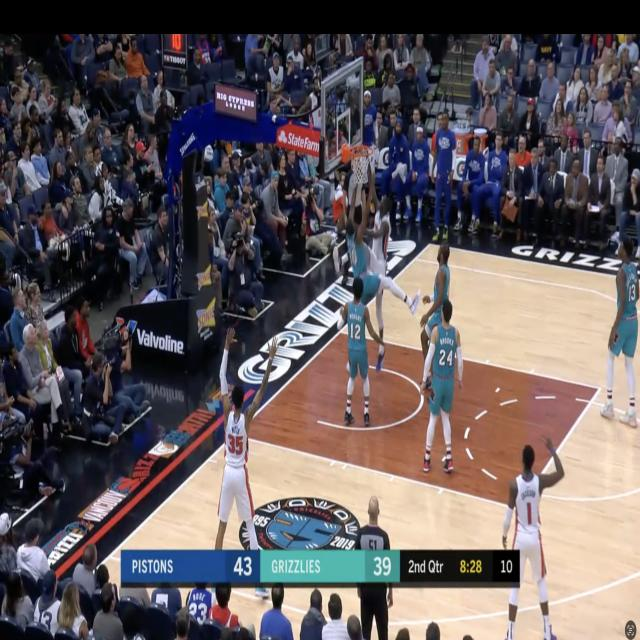foul: (339, 177, 413, 376)
no foul: (417, 236, 469, 471), (328, 285, 376, 431)
